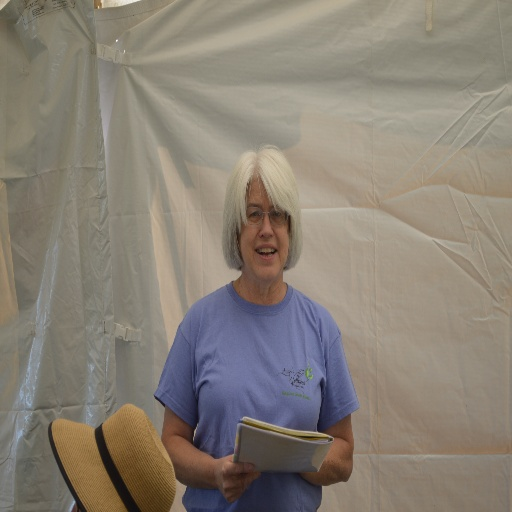hand: (213, 455, 260, 504)
